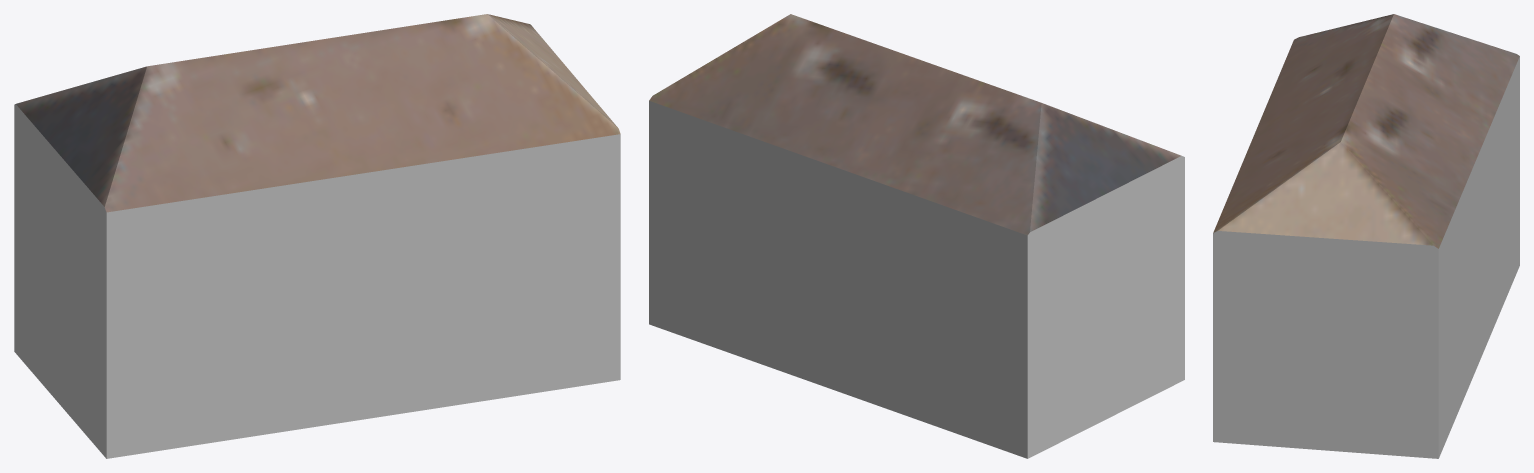
The model's file is DEBW_0010007TxhN.gltf.
The picture shows the model from 3 angles, left to right: view 1: azimuth 30°, elevation 25°; view 2: azimuth 150°, elevation 25°; view 3: azimuth 270°, elevation 25°; orthographic projection. The views are drawn at different scales.
Visible parts, largest first — view 1: Z_UP; view 2: Z_UP; view 3: Z_UP.
Boxes of the visible parts, x1=… form: Z_UP: x1=14, y1=14, x2=620, y2=458; Z_UP: x1=649, y1=14, x2=1184, y2=458; Z_UP: x1=1213, y1=14, x2=1519, y2=458.
Size of the model in its own units: 21.99 by 13.47 by 13.57.
2 materials, 1 textured.
